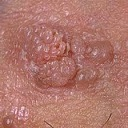Wart: (20, 19, 115, 96)
